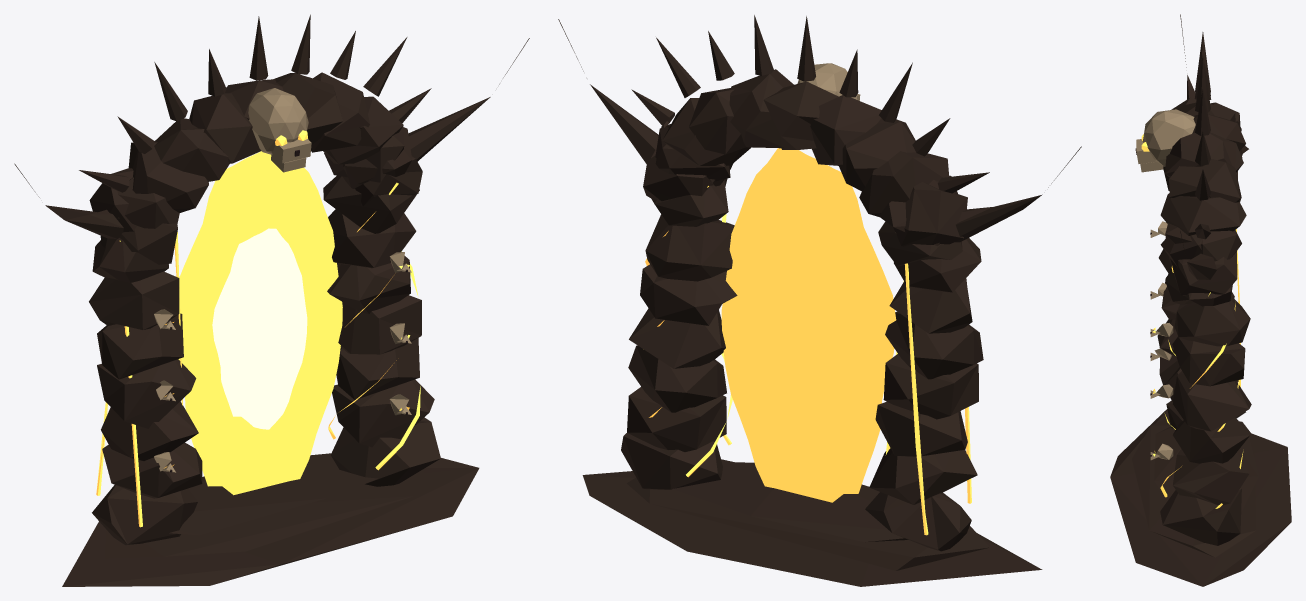
File: hell-gate-lod1.glb
3 views of the same model, side by side, from view 1: azimuth 30°, elevation 25°; view 2: azimuth 150°, elevation 25°; view 3: azimuth 270°, elevation 25° (orthographic). The views are drawn at different scales.
Size of the model in its own units: 19.68 by 18.63 by 6.96.
